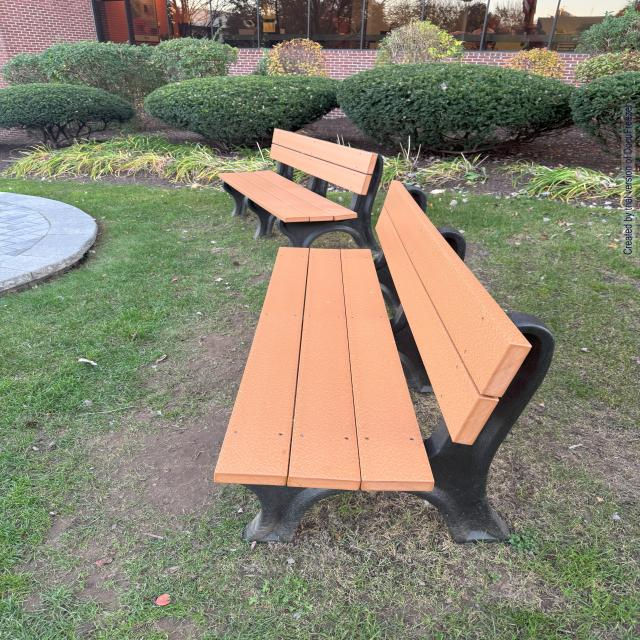chair: (173, 182, 559, 546), (204, 118, 390, 238)
